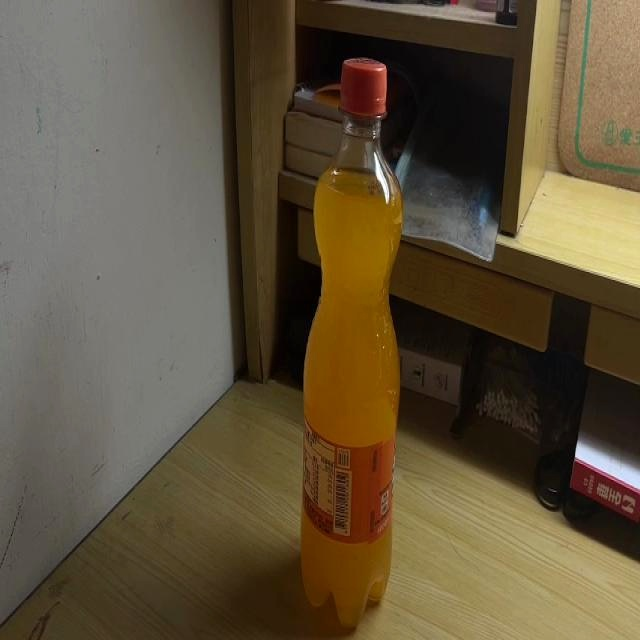Fanta: (300, 57, 398, 630)
